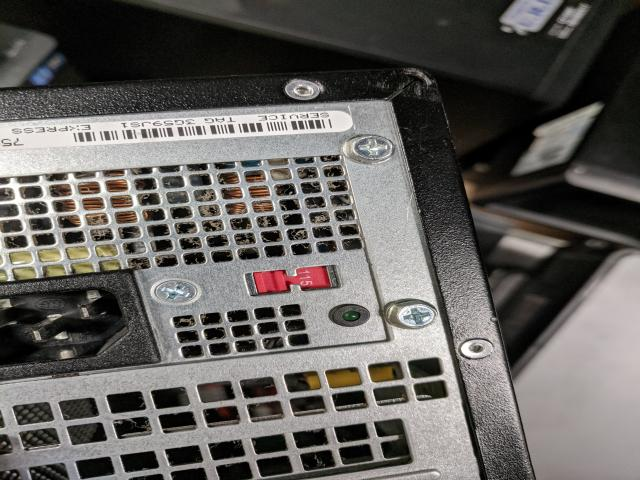CRS: (343, 132, 397, 166), (387, 298, 440, 332), (152, 279, 202, 305)
